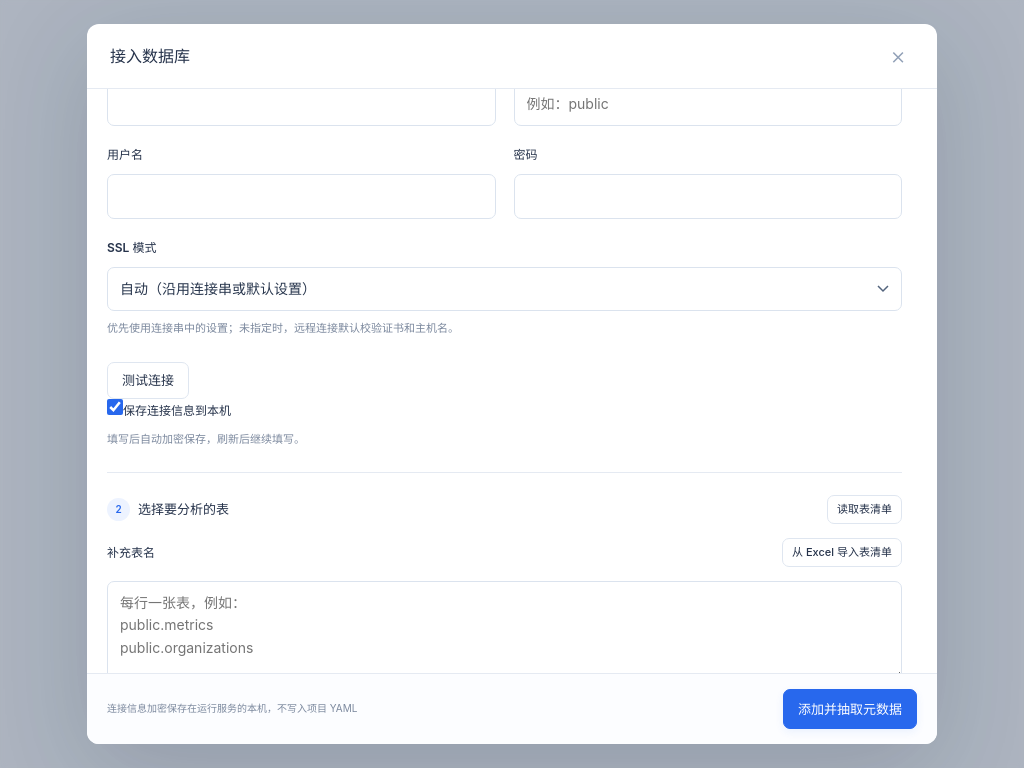
Test: 数据库连接弹窗 › 缺少连接字段时立即显示错误，不请求会话或数据库
(page scrolled)
Click the button "测试连接": (148, 381) [107,362,189,399]
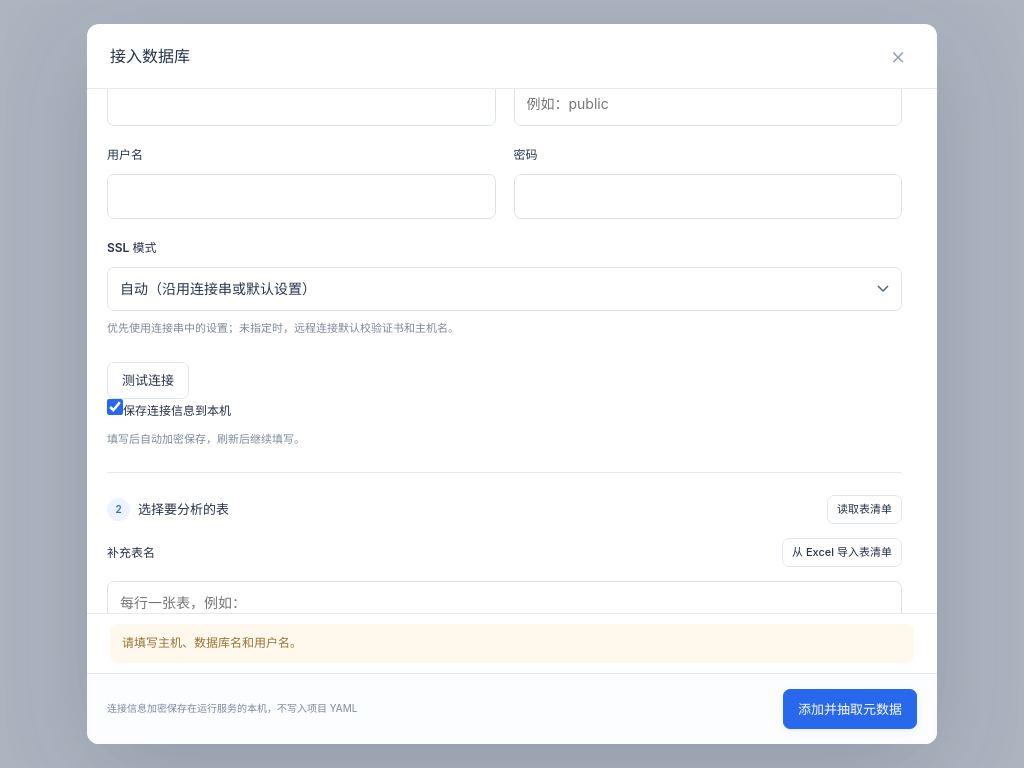
Expected: the message "请填写主机、数据库名和用户名。" is shown, [110,624,914,663]
Expected: the element showing "请填写主机、数据库名和用户名。" is shown, [87,613,937,673]
